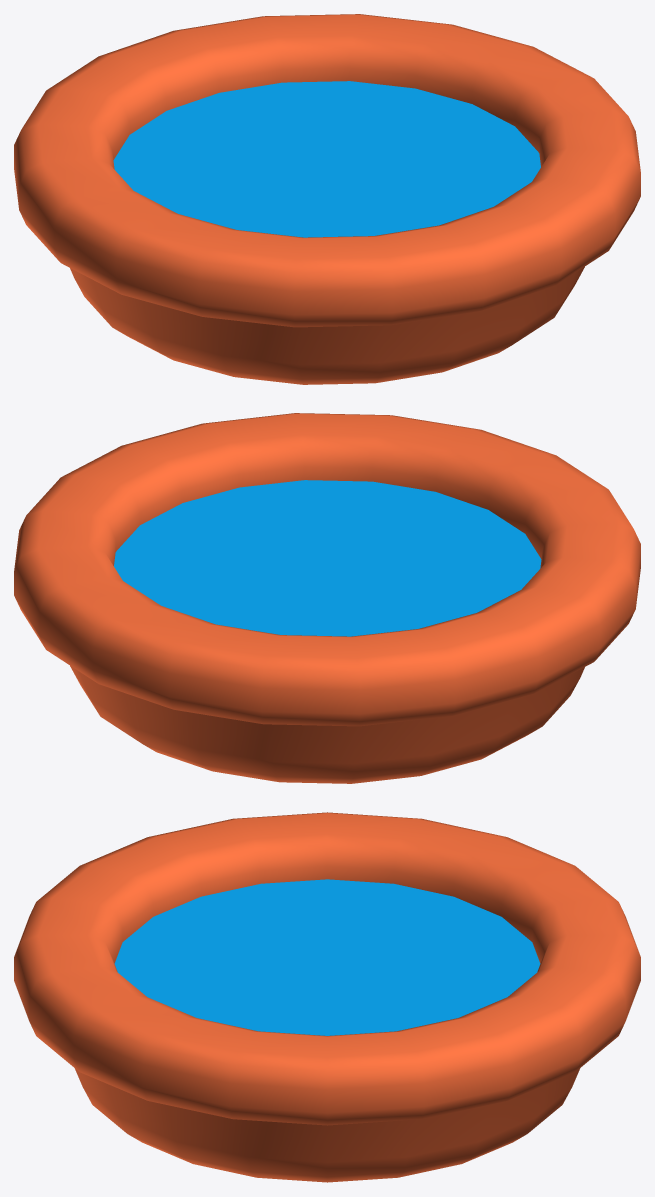
Rendered from Farm_14_Drinking_bowl_1.glb.
3 views of the same model, one above another, from view 1: azimuth 30°, elevation 25°; view 2: azimuth 150°, elevation 25°; view 3: azimuth 270°, elevation 25° (orthographic).
Parts seen in each view (by area): view 1: Farm_14_Drinking_bowl_1; view 2: Farm_14_Drinking_bowl_1; view 3: Farm_14_Drinking_bowl_1.
Boxes of the visible parts, box(x1,y1,x2,y2) form: Farm_14_Drinking_bowl_1: box(14, 14, 640, 384); Farm_14_Drinking_bowl_1: box(14, 413, 640, 783); Farm_14_Drinking_bowl_1: box(14, 812, 640, 1182).
Size of the model in its own units: 0.6784 by 0.185 by 0.6784.
1 material, 1 textured.
